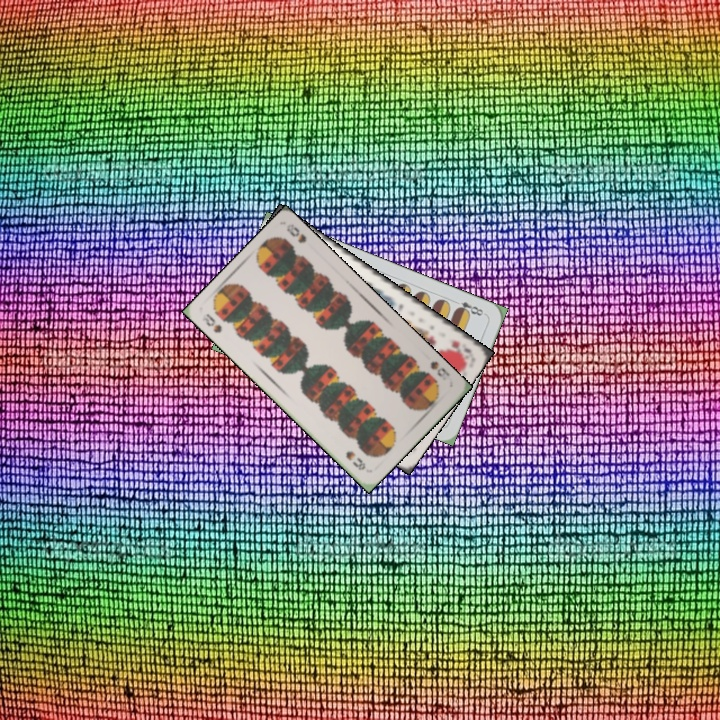E8: (450, 296, 488, 319)
HK: (447, 336, 474, 360)
S8: (198, 309, 224, 335), (426, 357, 452, 380)
